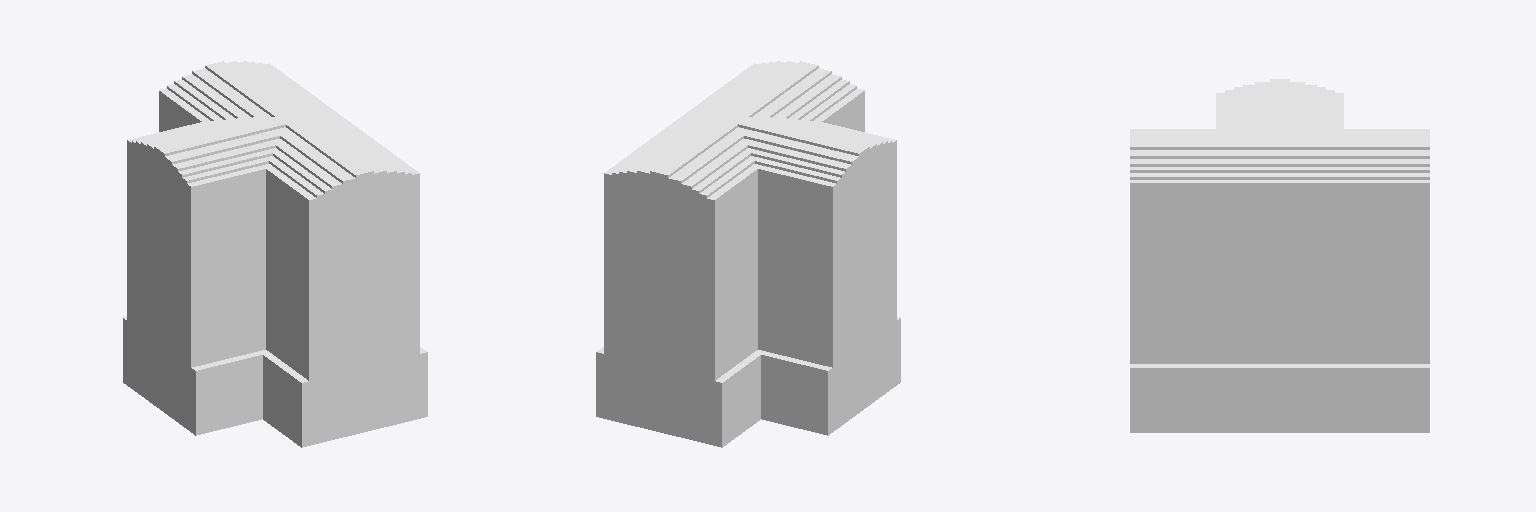
File: TWall.obj
3 renders of one model, left to right at view 1: azimuth 30°, elevation 25°; view 2: azimuth 150°, elevation 25°; view 3: azimuth 270°, elevation 25°, orthographic.
Parts seen in each view (by area): view 1: object 1; view 2: object 1; view 3: object 1.
Part boxes in pixels (left/top/right/bottom): object 1: left=123, top=61, right=427, bottom=447; object 1: left=596, top=61, right=900, bottom=447; object 1: left=1130, top=79, right=1429, bottom=432.
Bounding box in the file's own units: 7.5 × 9.6 × 10.1.